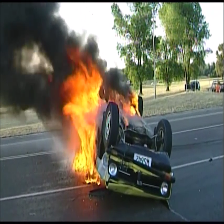fire_h: (62, 45, 106, 185), (108, 87, 142, 117)
fire_l: (122, 116, 129, 126)
